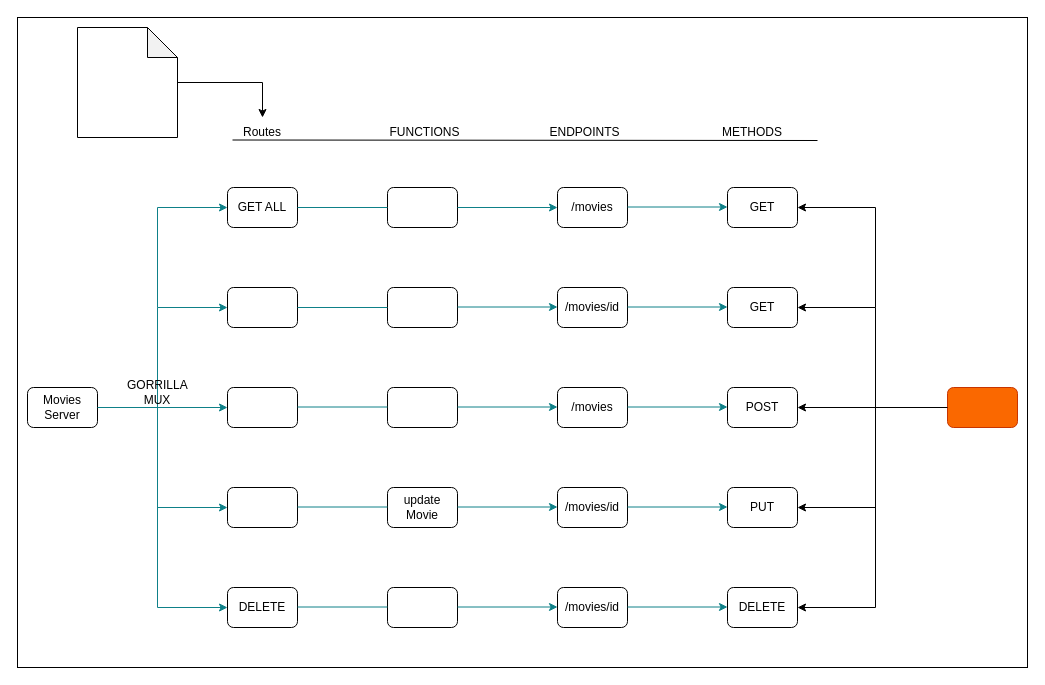
Some shapes in this 1045 by 685 pixel diagram are drawn without their labels. The shapes that lost their labels are listed below. From the top down, each one's centre as x and y in pixels, then its label:
[127,82]: "Route" here means: “What operation (action) the client wants to perform”
[422,207]: getMovies
[262,307]: GET BY ID
[422,307]: getMovie
[262,407]: CREATE
[422,407]: Create Movie
[982,407]: POSTMAN
[262,507]: UPDATE
[422,607]: delete Movie
